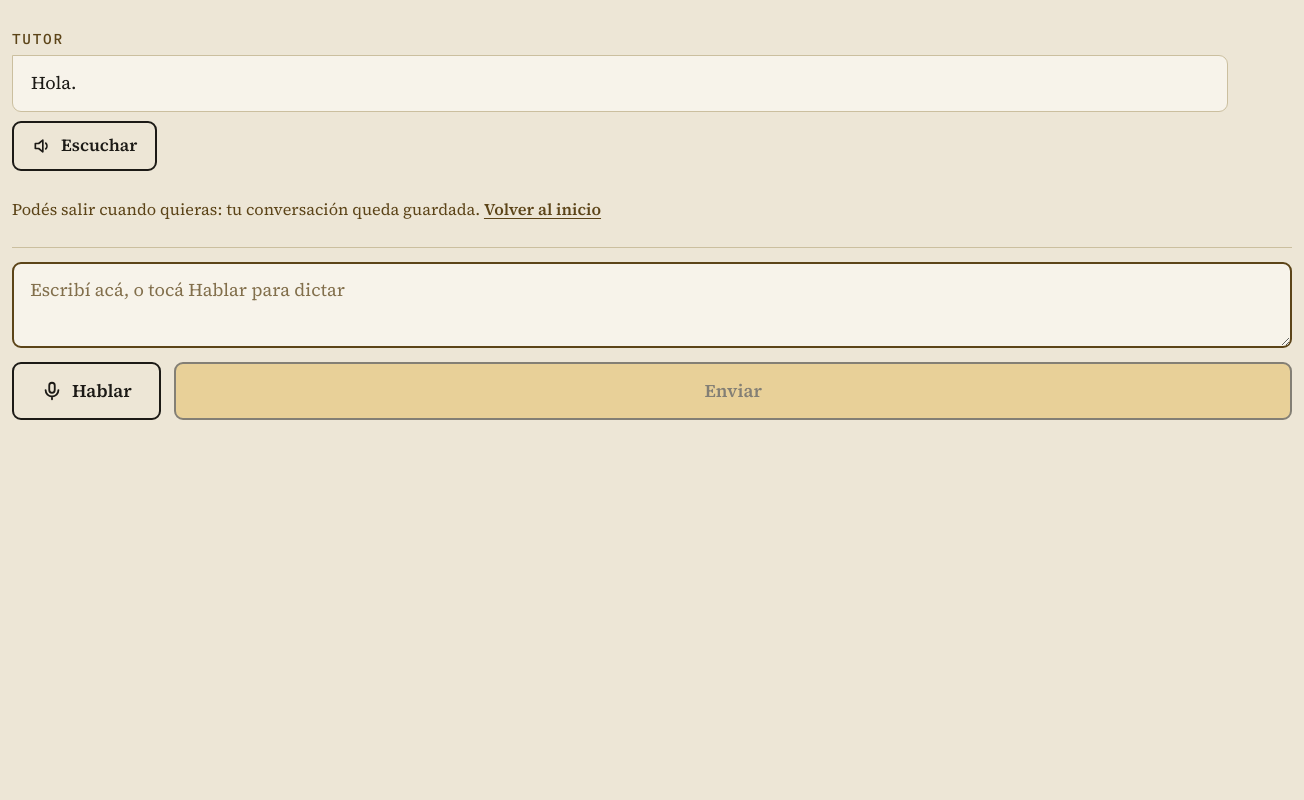
it: Chat › si el error llega por el stream, Reintentar sigue desde el mensaje guardado (texto vacío)
The width and height of the screenshot is (1304, 800).
Expected: the text "Hola." is shown, [31,70,76,95]
Type "Una agenda de sueños" into the text box named "tu mensaje". click: (652, 305)
box: [12,262,1292,348]
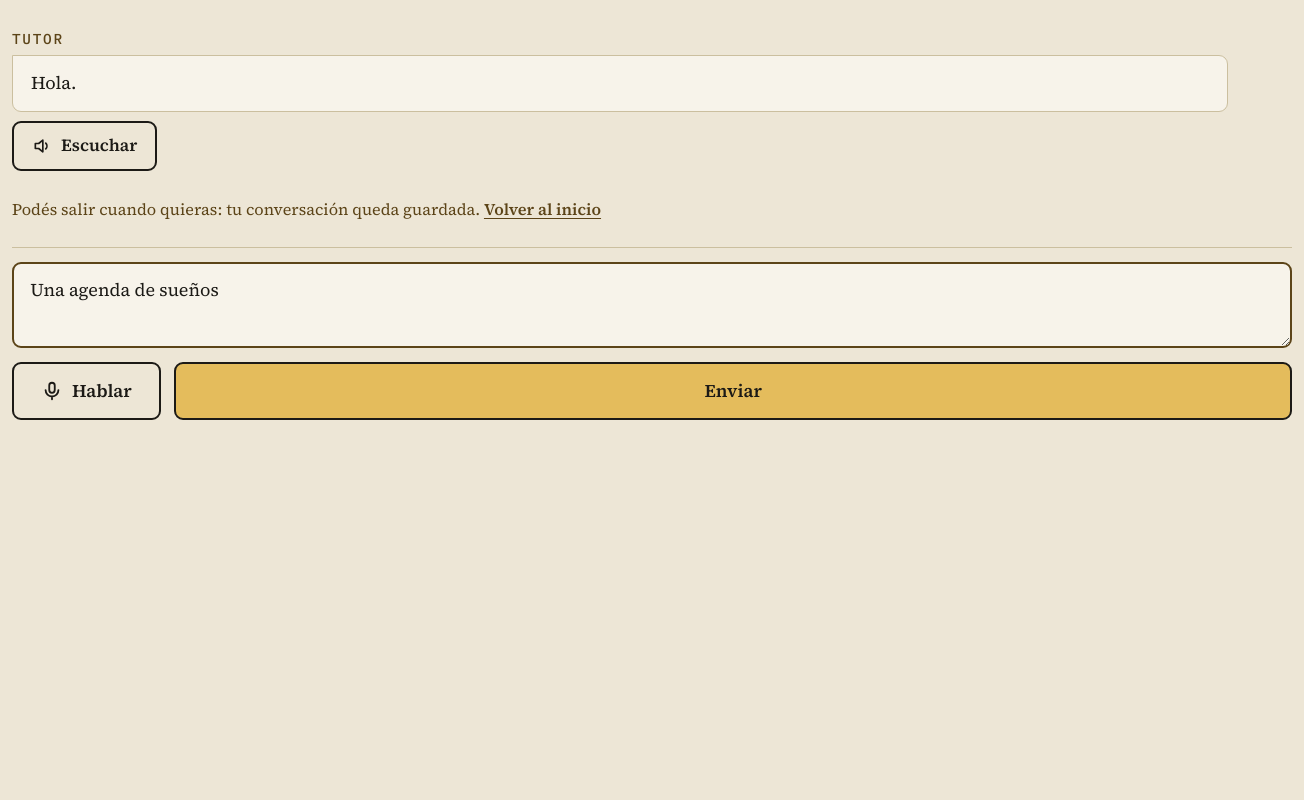
Click the button "Enviar". click: (733, 391)
box: [174,362,1292,420]
(page scrolled)
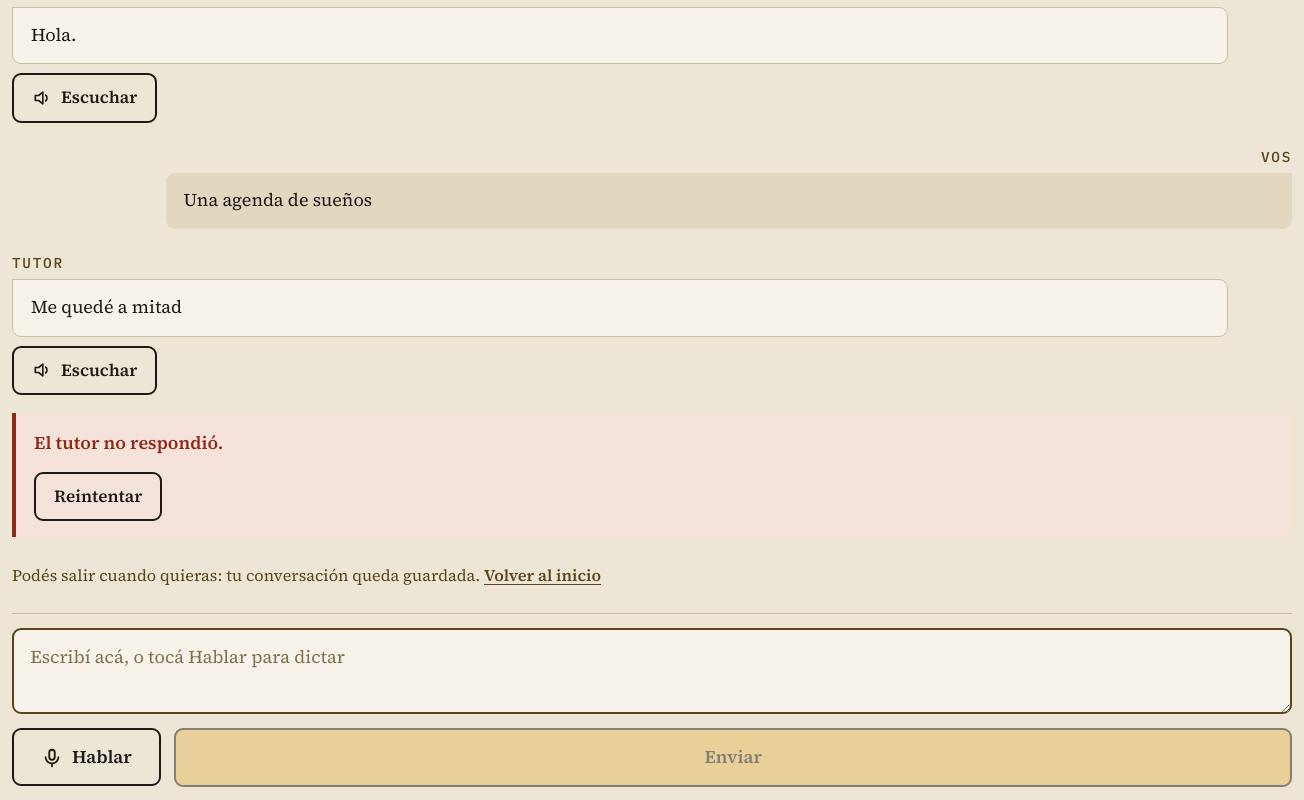
Expected: the text "El tutor no respondió." is shown, [34,430,223,455]
Click the button "Reintentar". click: (98, 496)
box: [34,472,162,521]
(page scrolled)
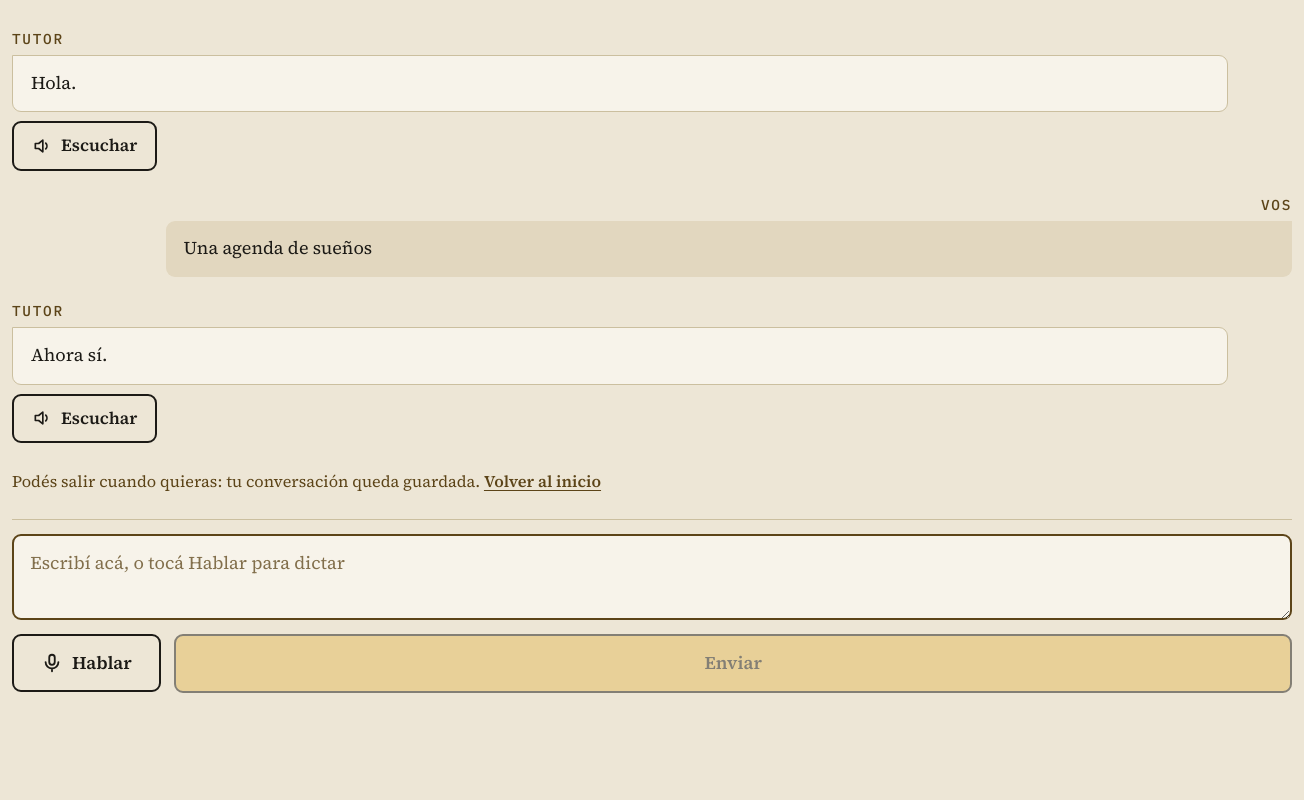
Expected: the text "Una agenda de sueños" is shown once, [184,235,372,260]
Expected: the text "Ahora sí." is shown, [31,342,108,367]
Expected: the text "Me quedé a mitad" is gone
